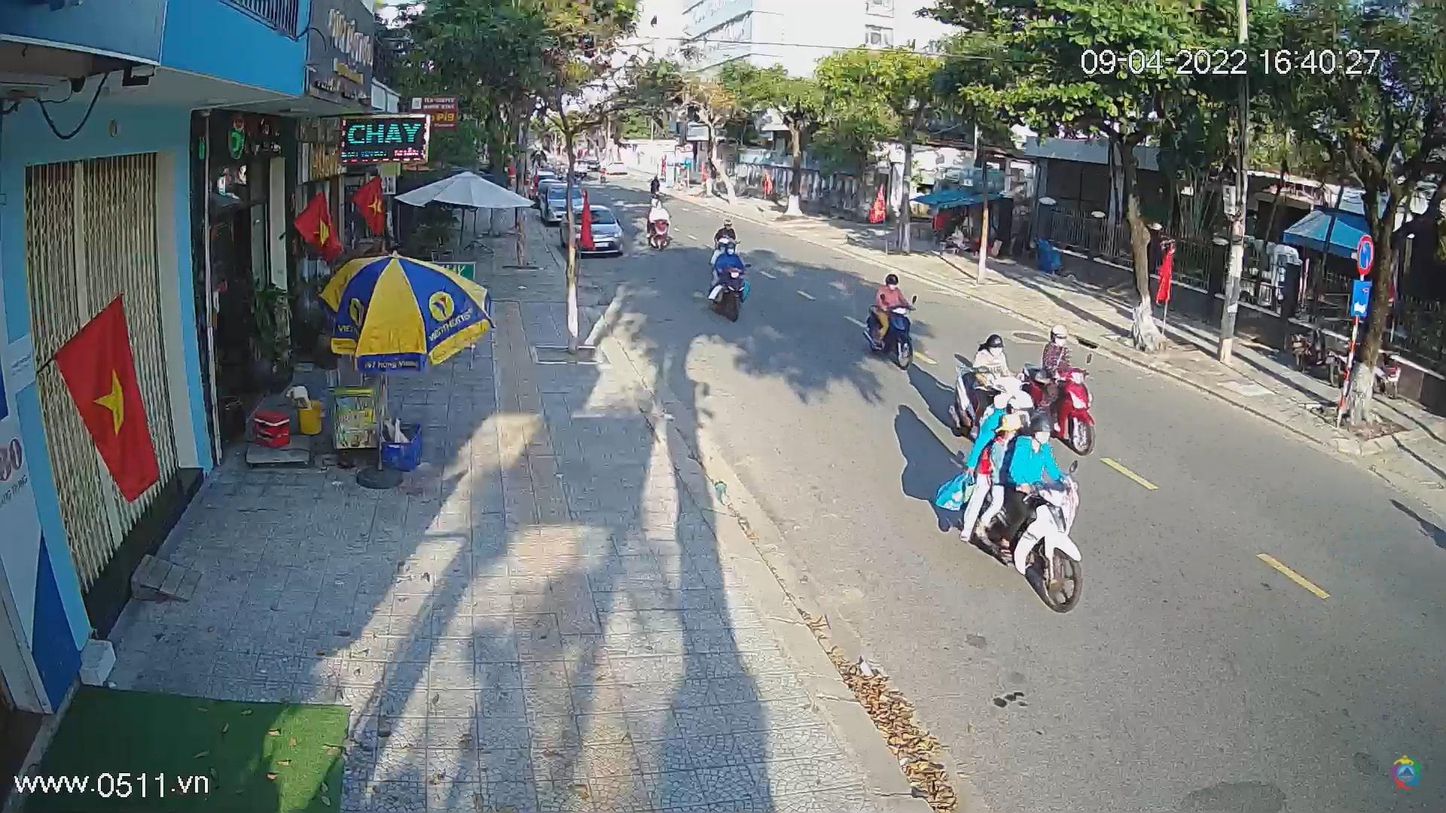car: (572, 207, 623, 259)
motorbike: (965, 449, 1086, 611), (1019, 351, 1099, 460), (859, 296, 921, 371), (710, 254, 751, 320)
